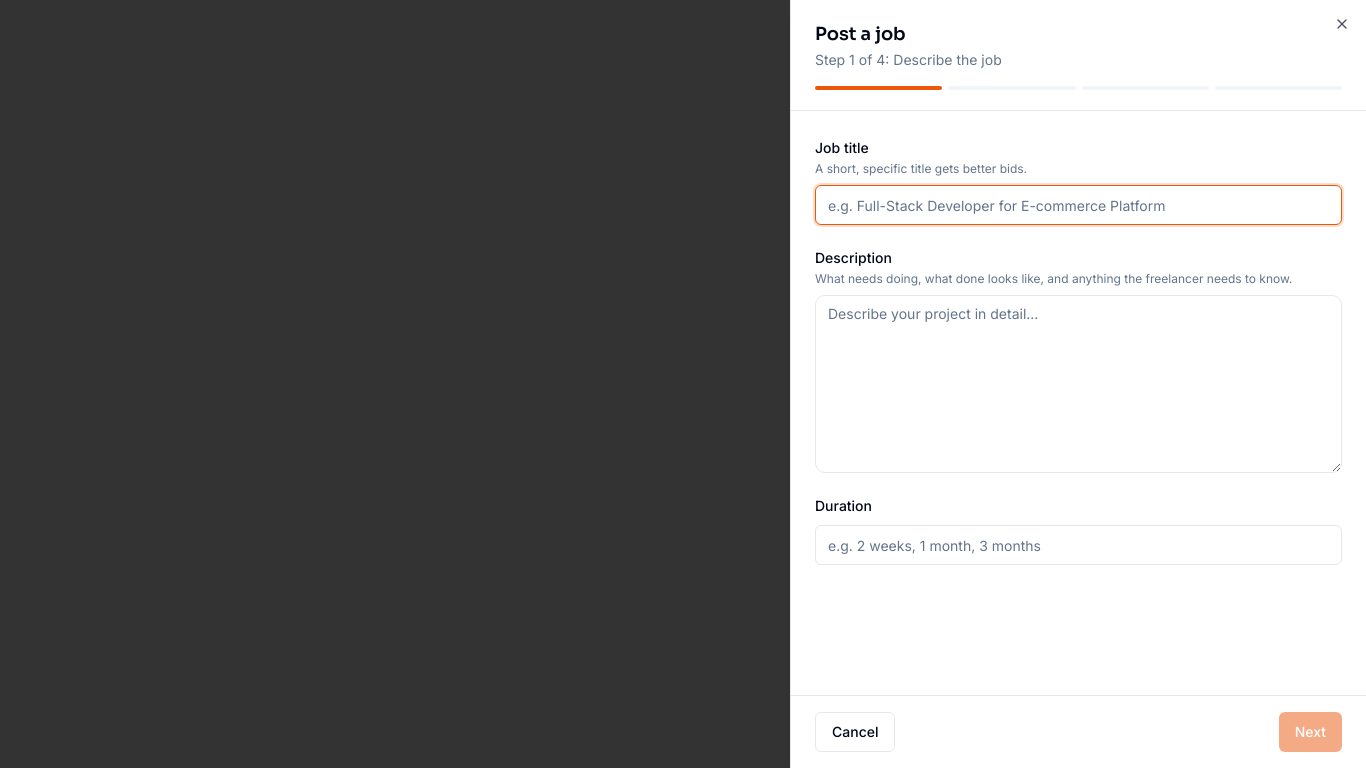
Scenario: PostJobModal › disables Next on step 1 until title, description, and duration are filled
The image size is (1366, 768).
Expected: the button "Next" is disabled, [1279,712,1342,752]
Type "A job" into the field with placeholder "e.g. Full-Stack Developer for E-commerce Platform" at (1078, 205), box [815,185,1342,225]
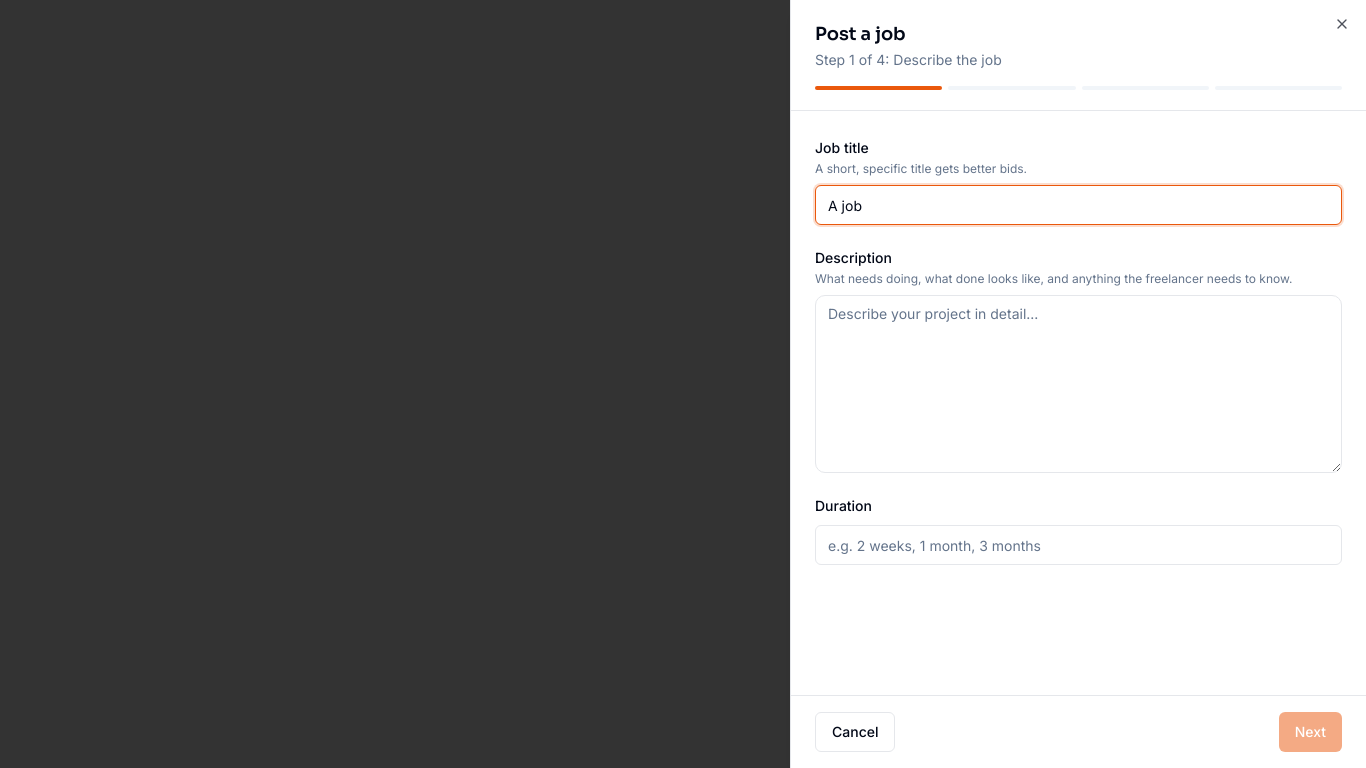
Type "A description" into the text box with placeholder "Describe your project in detail..." at (1078, 384), box [815,295,1342,473]
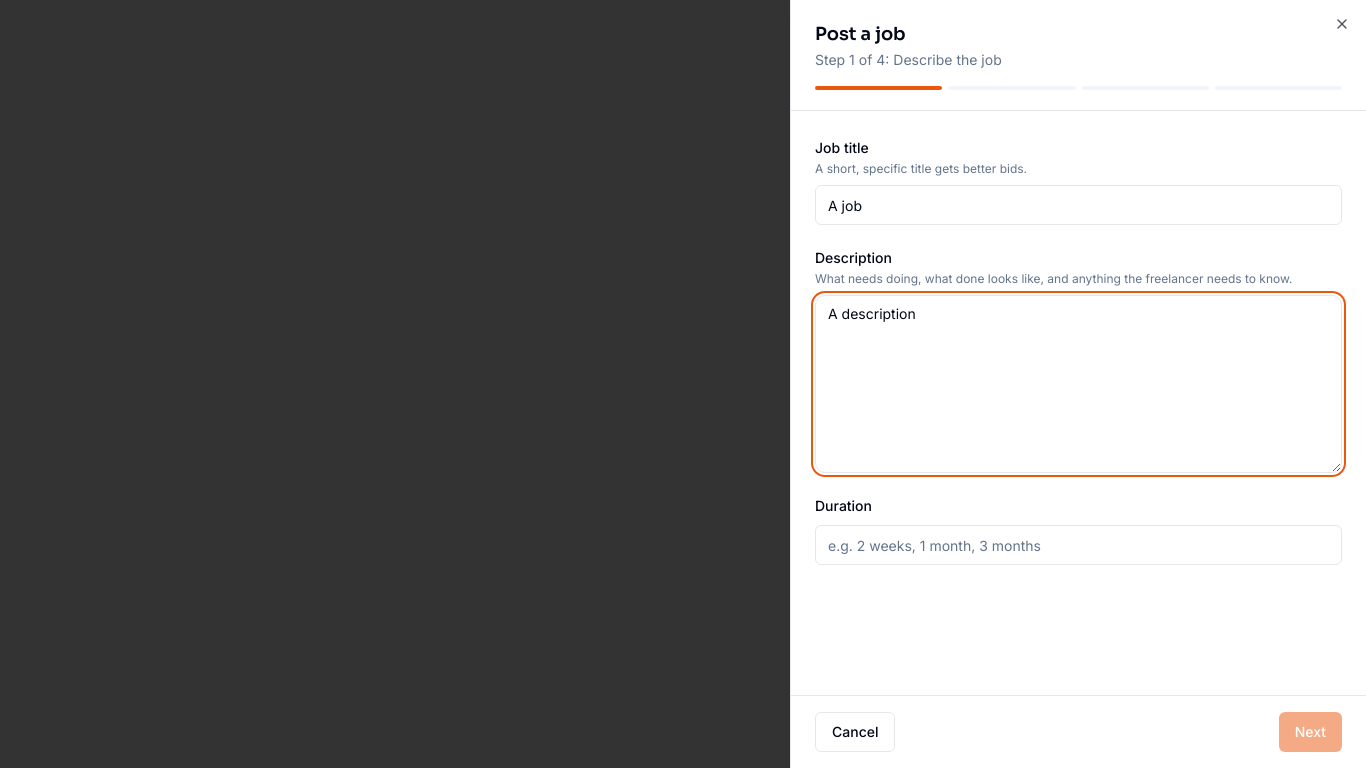
Type "2 weeks" into the field with placeholder "e.g. 2 weeks, 1 month, 3 months" at (1078, 545), box [815,525,1342,565]
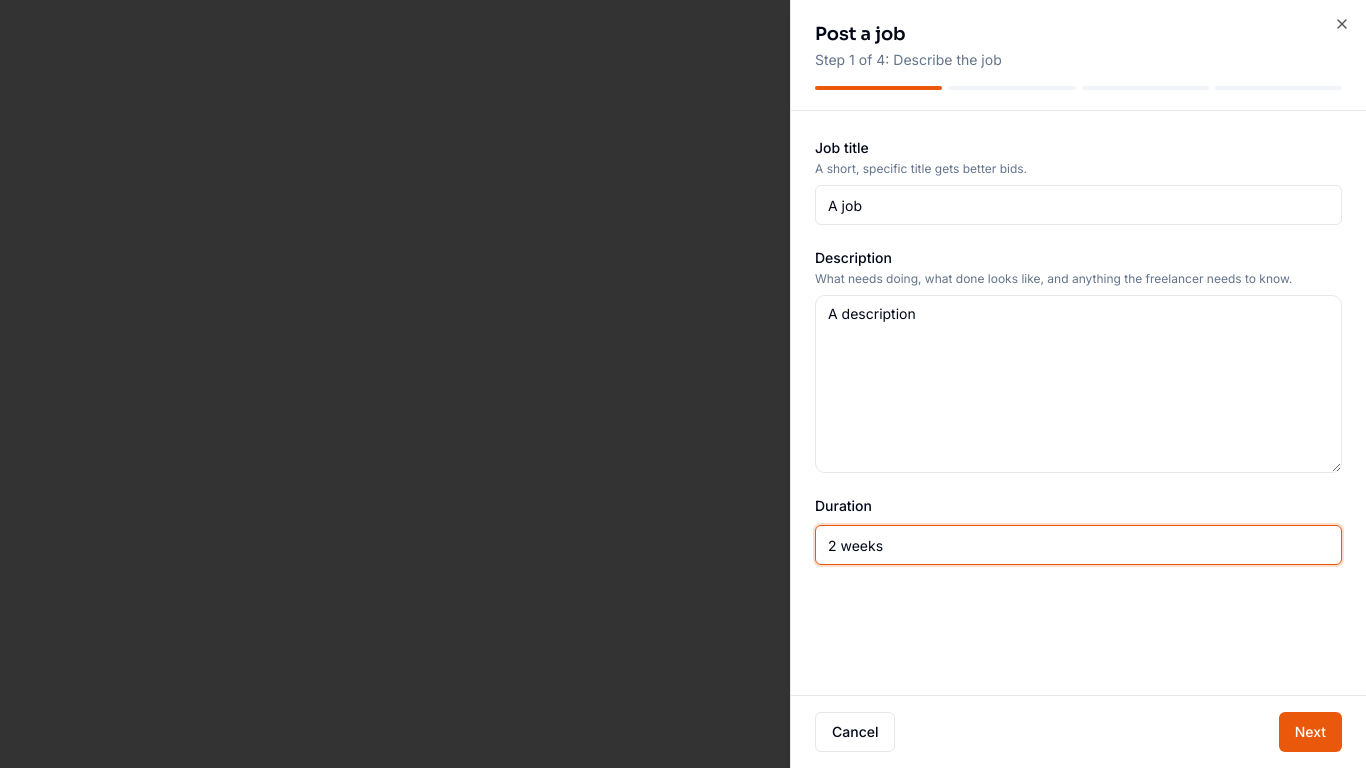
Now the button "Next" is enabled, box [1279,712,1342,752]
